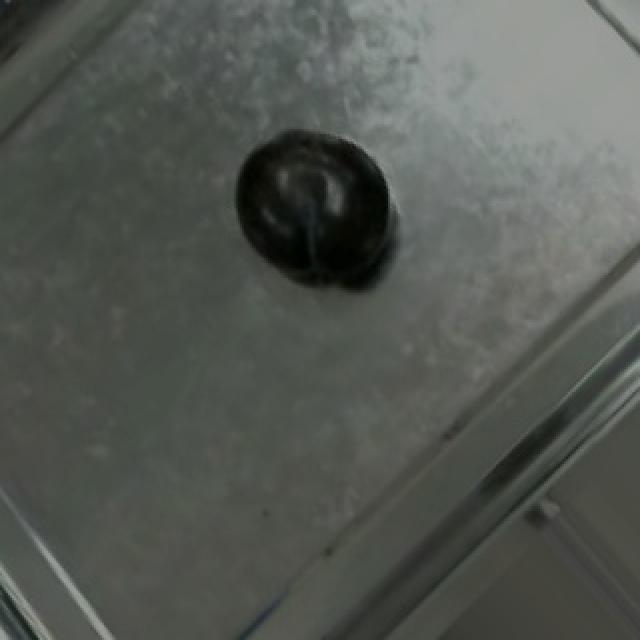Fruit: (218, 122, 410, 290)
